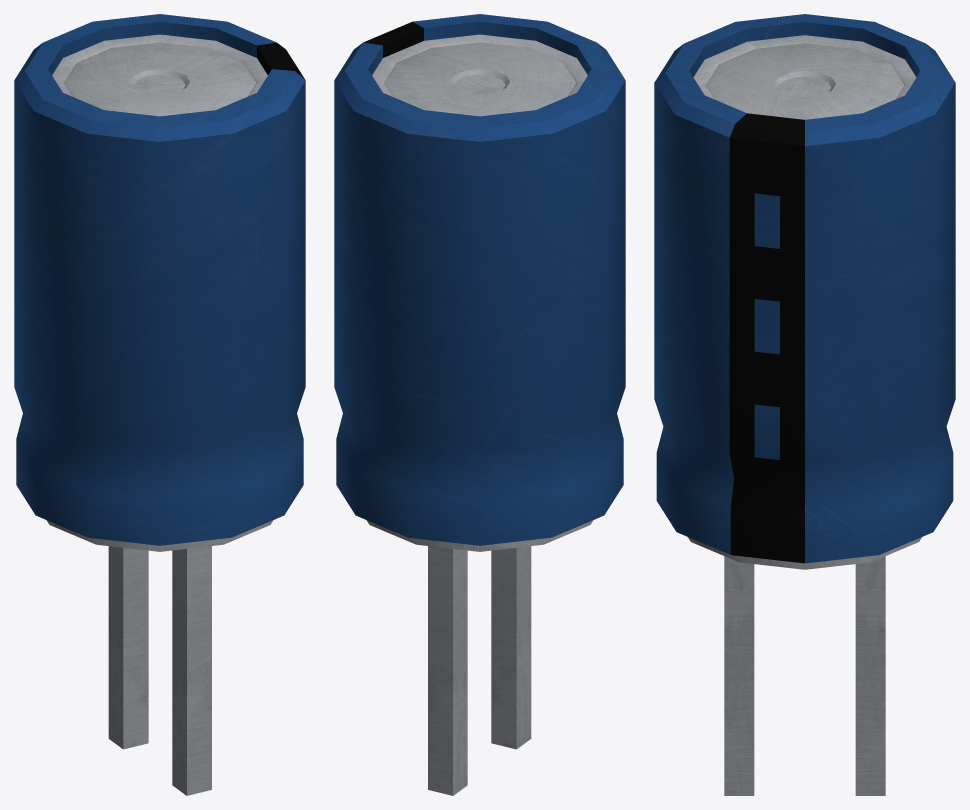
File: Capacitor.fbx
3 views of the same model, side by side, from view 1: azimuth 30°, elevation 25°; view 2: azimuth 150°, elevation 25°; view 3: azimuth 270°, elevation 25° (orthographic). The views are drawn at different scales.
Visible parts, largest first — view 1: Capacitor, CapacitorLegs; view 2: Capacitor, CapacitorLegs; view 3: Capacitor, CapacitorLegs.
Part boxes in pixels (<box>): Capacitor: <box>14,14,305,551</box>; CapacitorLegs: <box>108,546,211,795</box>; Capacitor: <box>334,14,625,551</box>; CapacitorLegs: <box>428,546,531,795</box>; Capacitor: <box>654,14,955,569</box>; CapacitorLegs: <box>724,556,885,795</box>.
Size of the model in its own units: 6.62 by 17.44 by 6.62.
